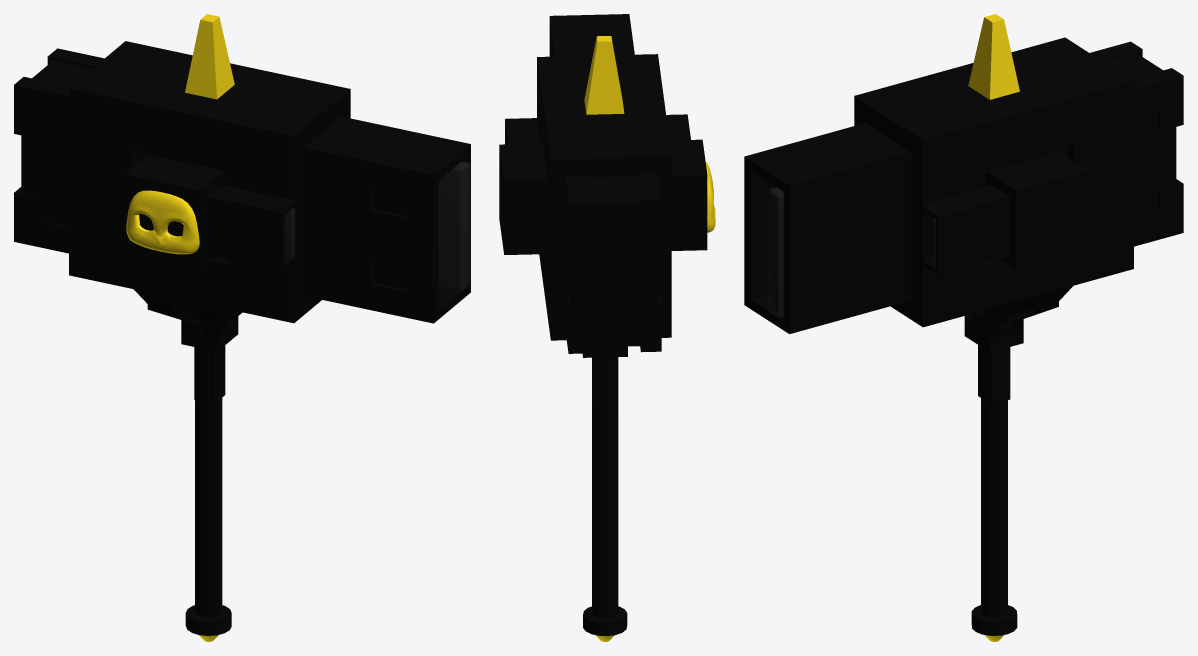
3 views of the same model, side by side, from view 1: azimuth 30°, elevation 25°; view 2: azimuth 150°, elevation 25°; view 3: azimuth 270°, elevation 25° (orthographic). The views are drawn at different scales.
Visible parts, largest first — view 1: Elec_Arm_05, Cube; view 2: Elec_Arm_05; view 3: Elec_Arm_05, Cube.
Part boxes in pixels (left/top/right/bottom): Elec_Arm_05: left=14, top=14, right=470, bottom=641; Cube: left=438, top=161, right=470, bottom=291; Elec_Arm_05: left=499, top=14, right=715, bottom=641; Elec_Arm_05: left=744, top=14, right=1183, bottom=641; Cube: left=768, top=187, right=783, bottom=317.
Size of the model in its own units: 52.1 by 69.2 by 108.
